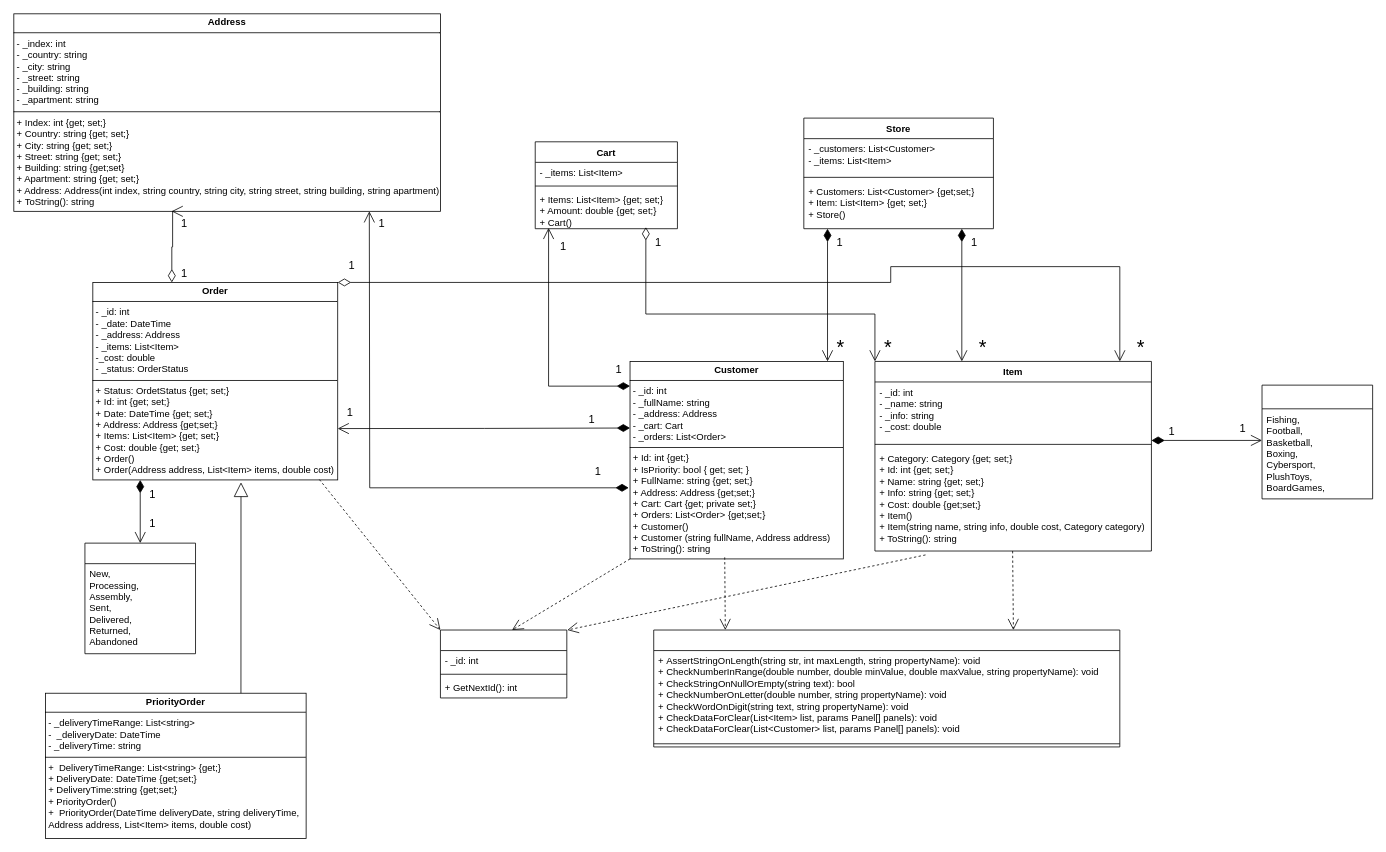
The diagram is 1386 pixels wide and 852 high, and some of its shapes have lost their labels. The box of each missing label's shape, as (x1, y1, x2, y2) in pixels:
<<enumeration>> Category: (1261, 384, 1373, 499)
<<enumeration>> OrderStatus: (84, 542, 196, 654)
IdGenerator: (440, 629, 567, 698)
ValueValidator: (653, 629, 1120, 747)
